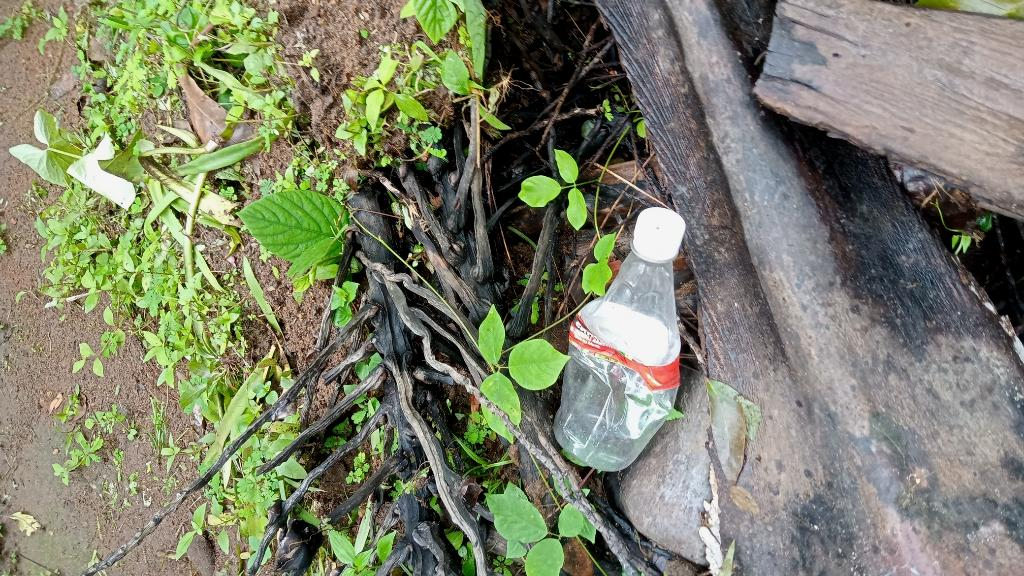garbage: (528, 193, 724, 479)
